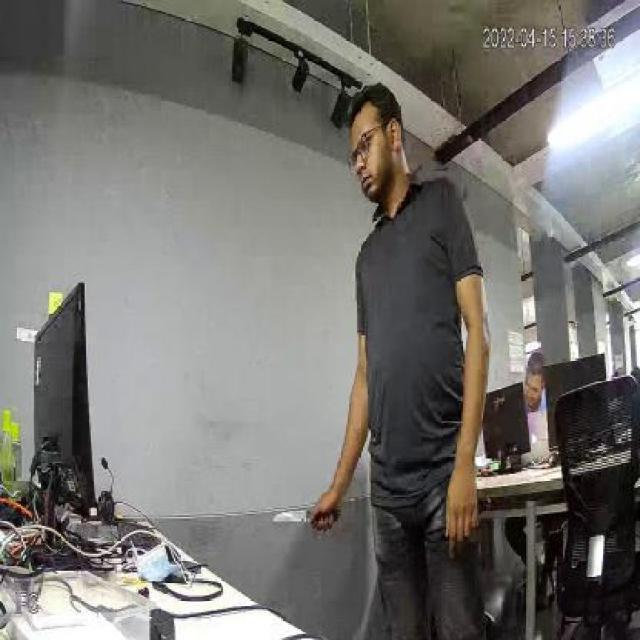-: (272, 500, 323, 542)
